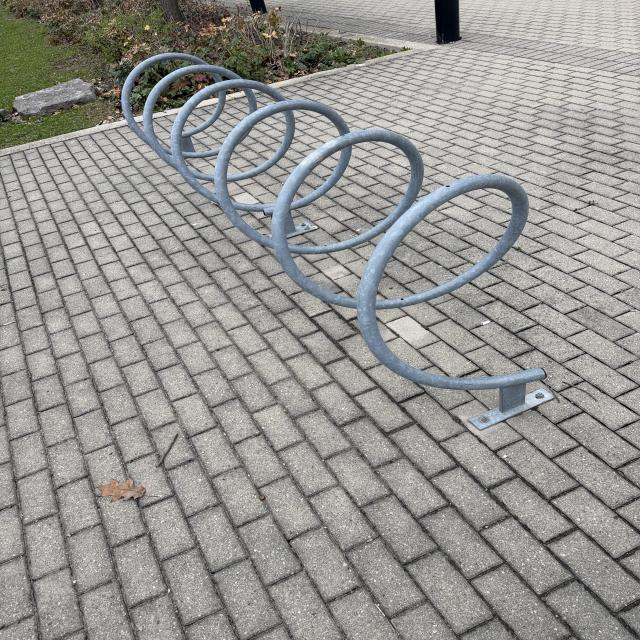Bicycle Rack: (121, 53, 559, 423)
